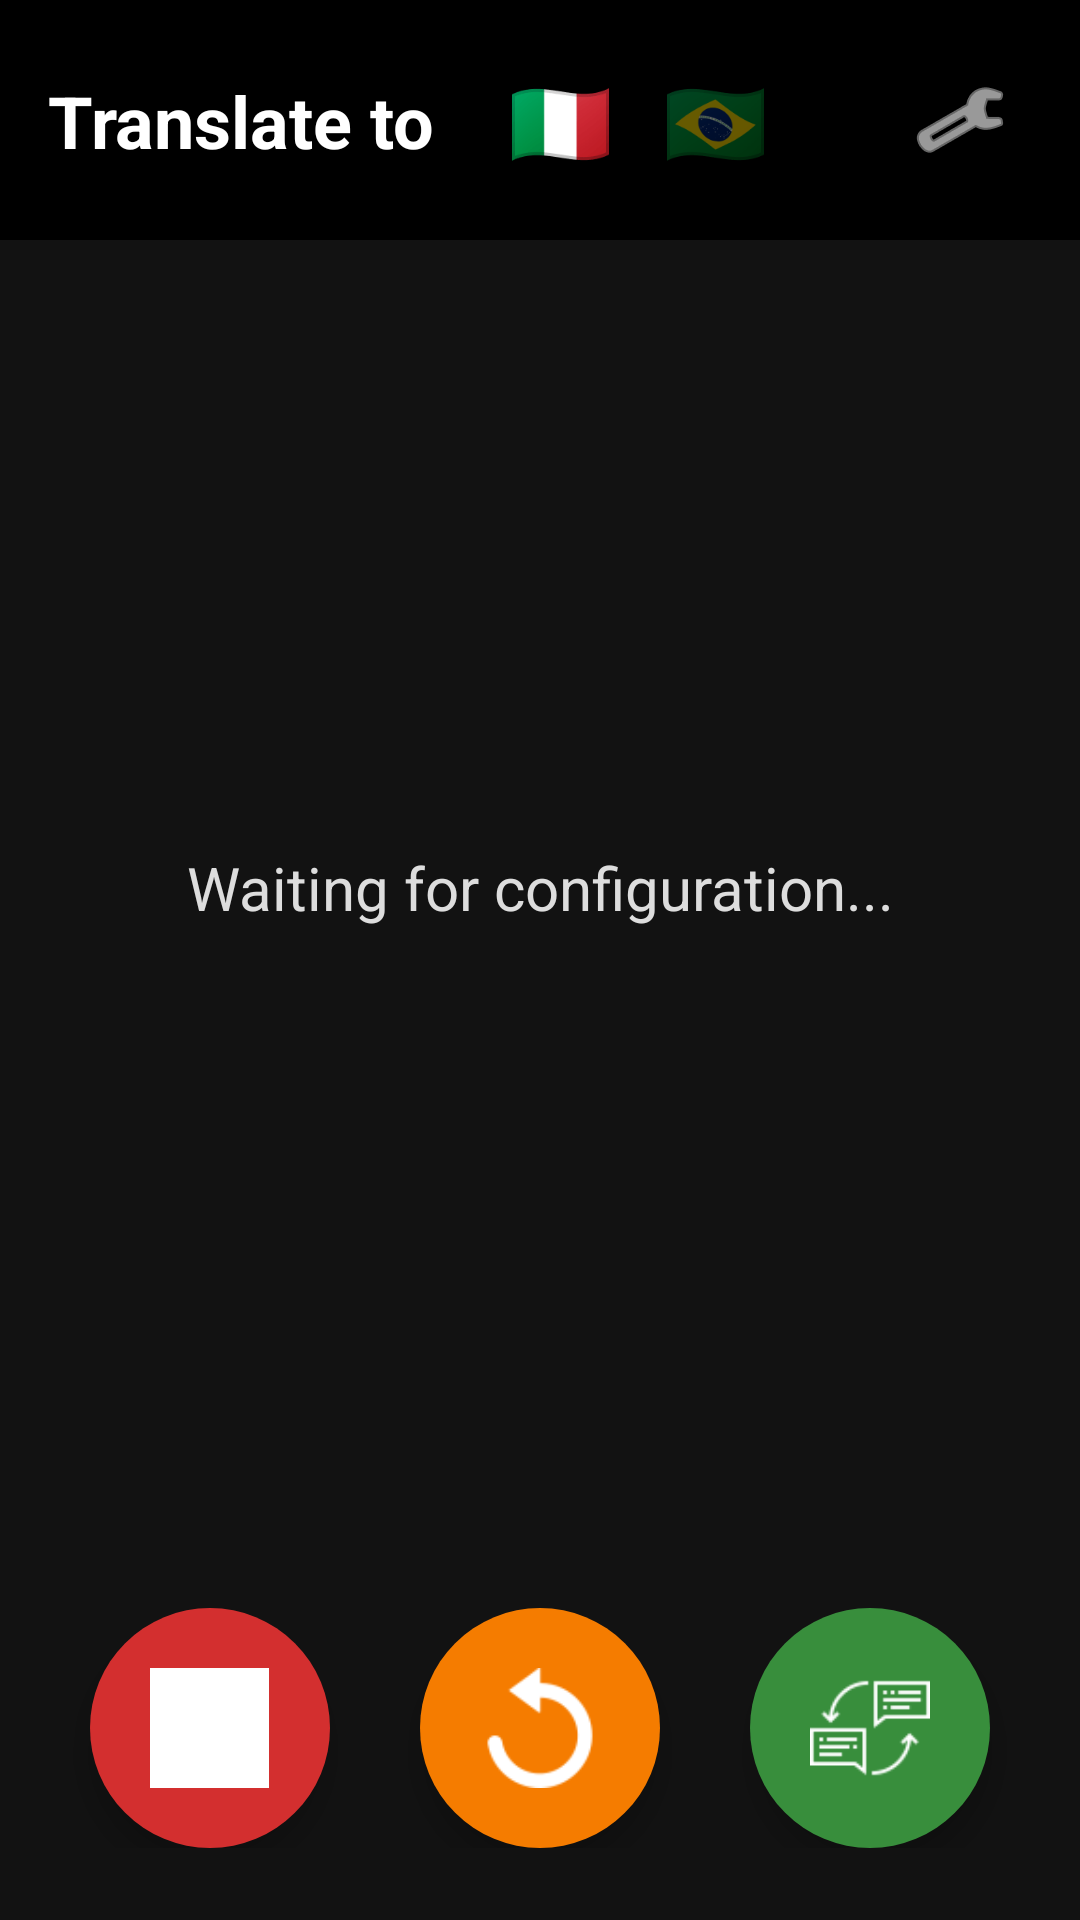

Screen size 1080*1920. Icon name, then its center in pixels as (x=x, y=y):
preferences: (x=960, y=120)
reset: (x=540, y=1728)
stop: (x=210, y=1728)
translate now: (x=870, y=1728)
